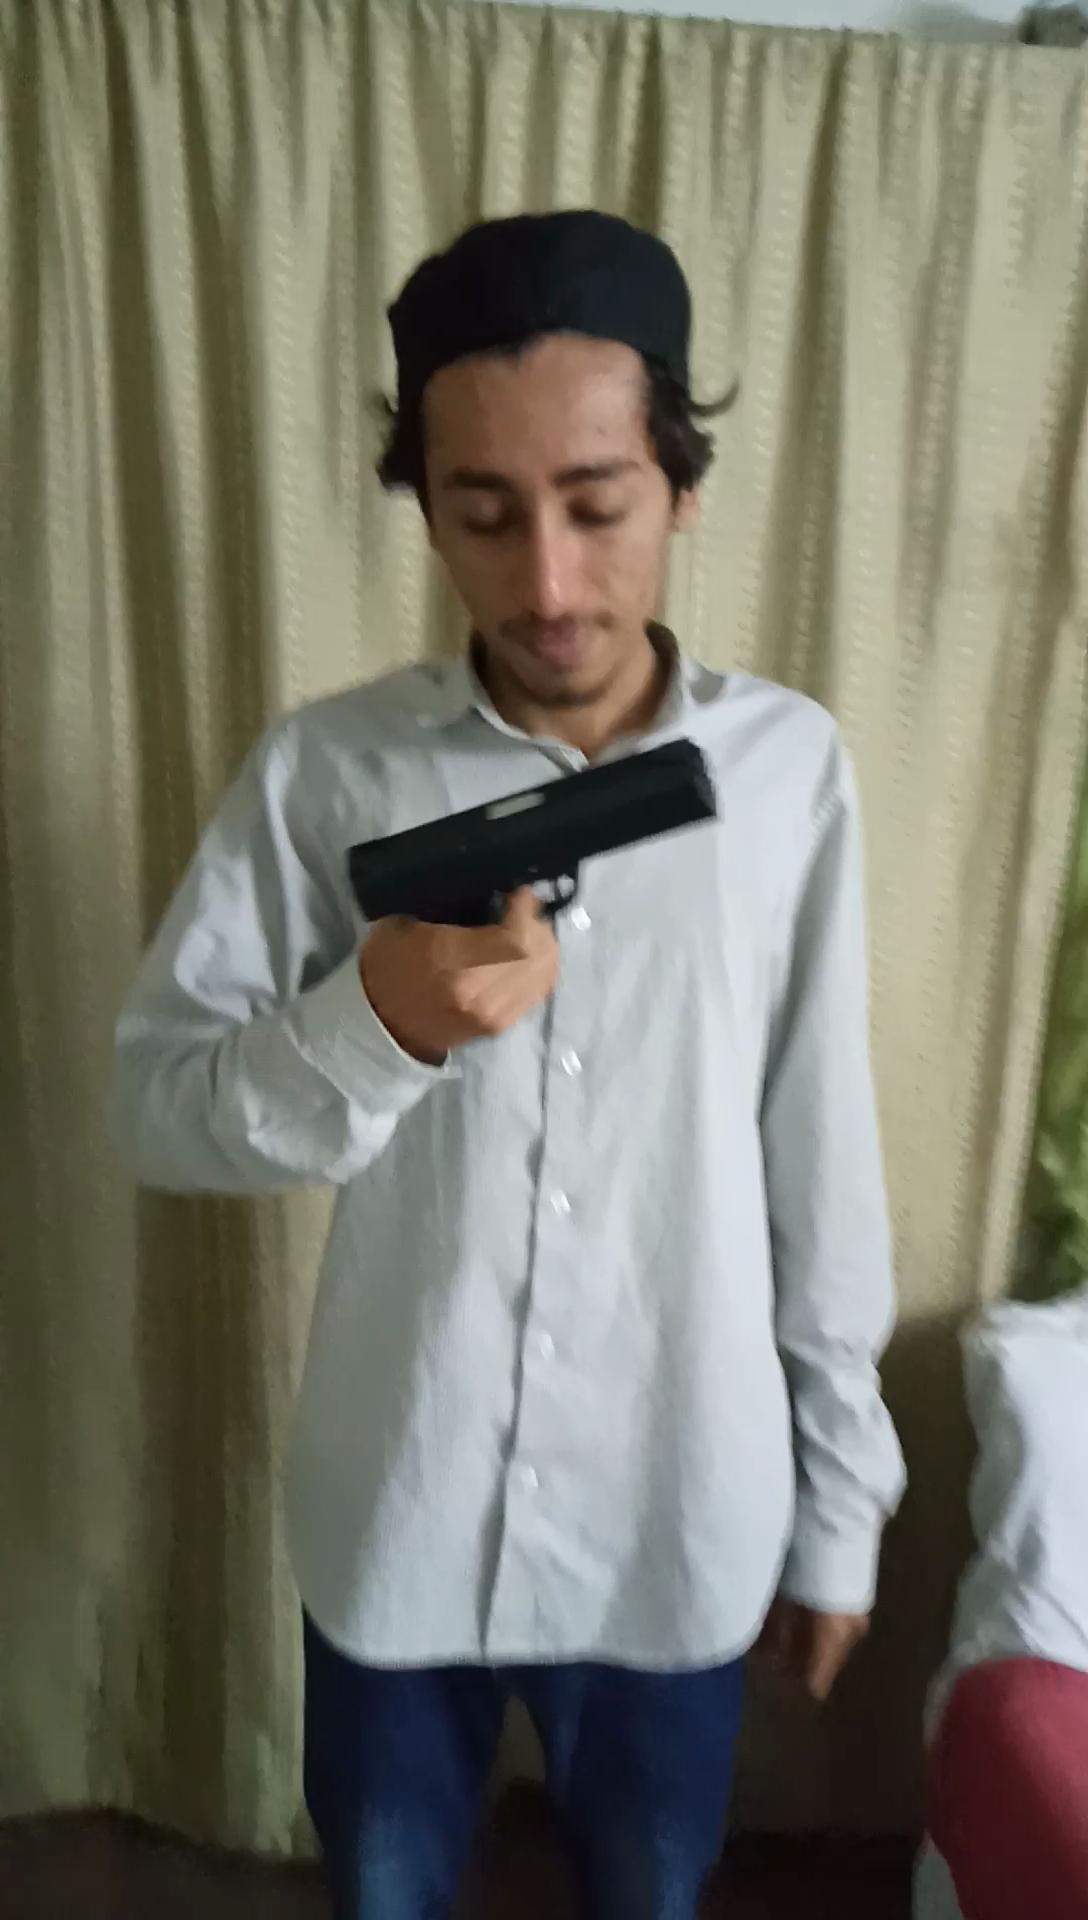criminal: (108, 206, 901, 1920)
weapon: (332, 716, 761, 1005)
